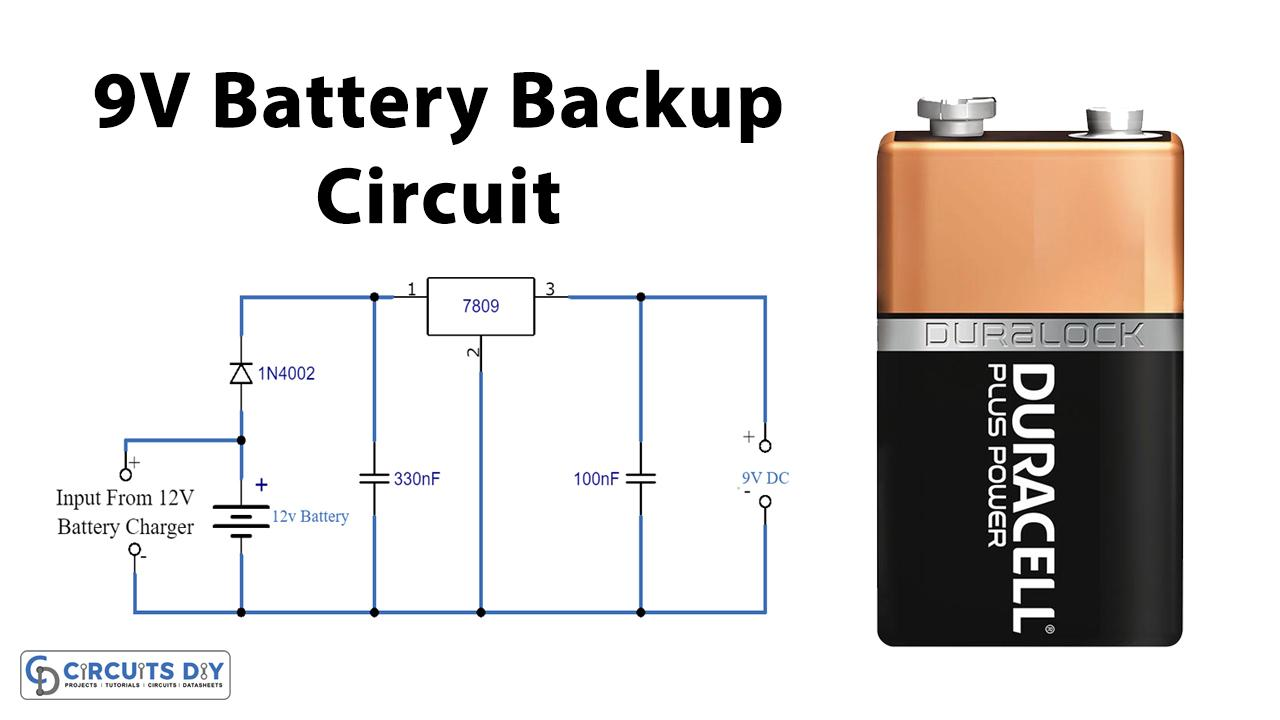9V Battery: (877, 96, 1184, 650)
